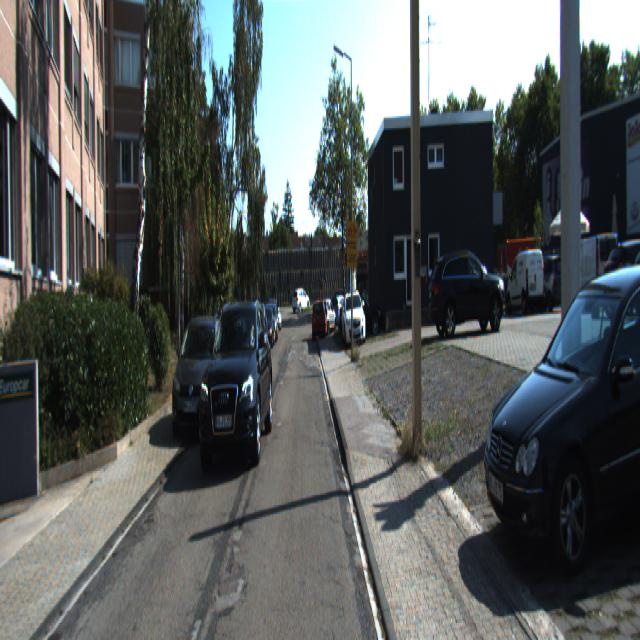Car: (468, 210, 639, 572), (193, 292, 274, 473), (169, 304, 229, 440), (427, 244, 508, 343), (206, 308, 250, 402), (570, 226, 619, 306), (527, 252, 572, 313), (506, 245, 546, 313), (341, 288, 366, 346), (310, 299, 328, 343), (291, 287, 310, 314)
